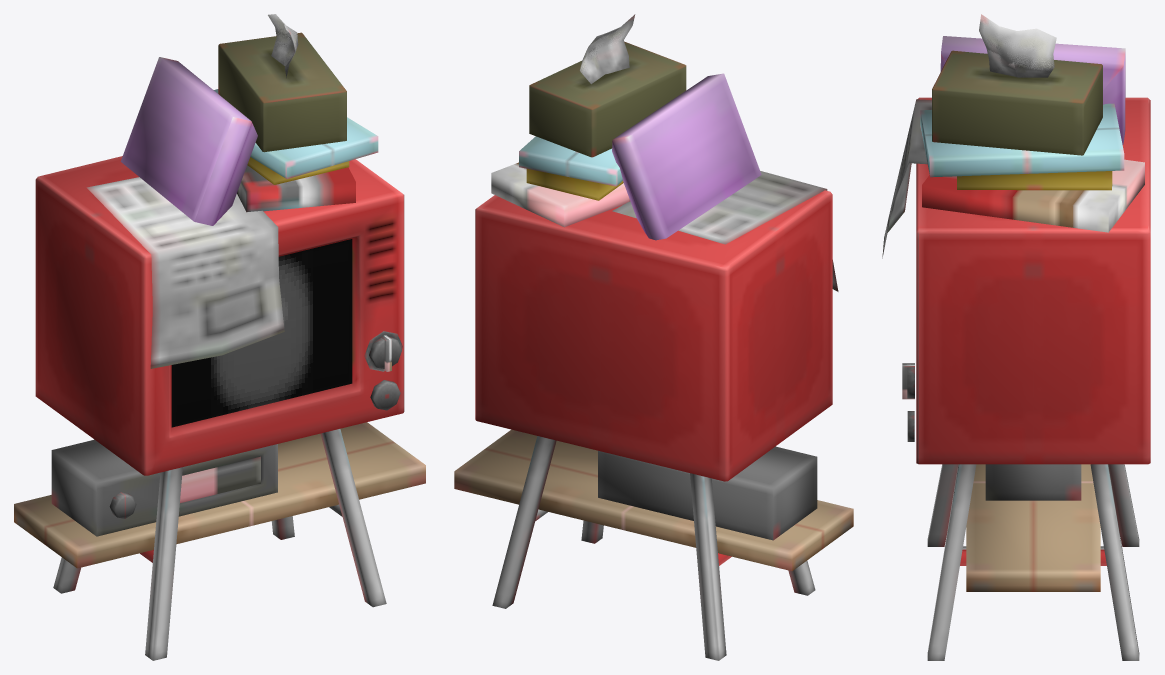
File: int_lse_tv.dae
3 renders of one model, left to right at view 1: azimuth 30°, elevation 25°; view 2: azimuth 150°, elevation 25°; view 3: azimuth 270°, elevation 25°, orthographic. The views are drawn at different scales.
Visible parts, largest first — view 1: int_lse_tv; view 2: int_lse_tv; view 3: int_lse_tv.
Boxes of the visible parts, box(x1,y1,x2,y2) form: int_lse_tv: box(14, 14, 425, 660); int_lse_tv: box(454, 14, 853, 660); int_lse_tv: box(882, 14, 1150, 660).
Size of the model in its own units: 31.04 by 48.83 by 19.5.
2 materials, 2 textured.
